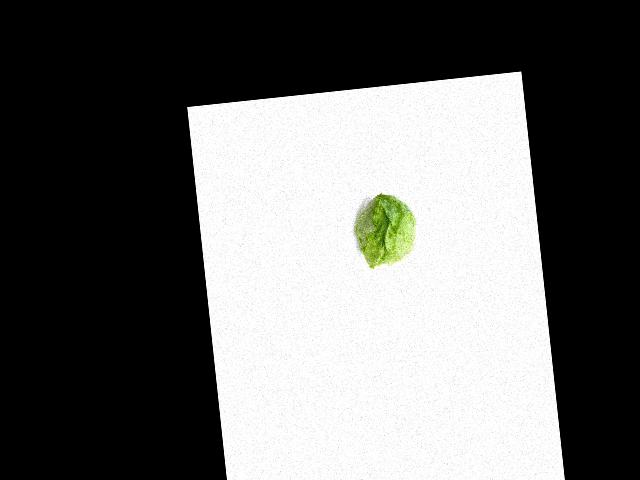lettuce: (347, 190, 424, 269)
